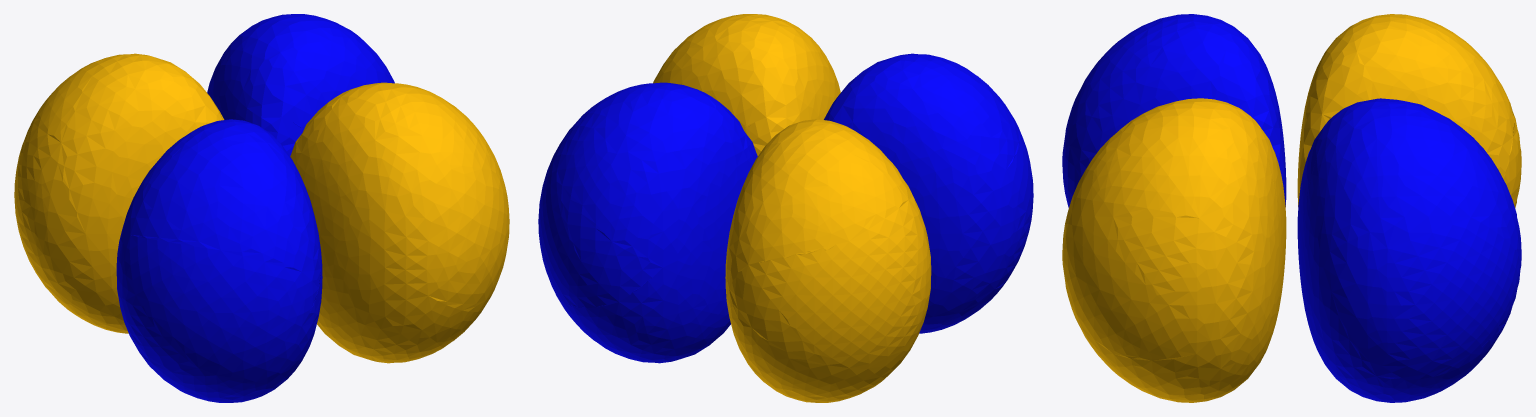
3 views of the same model, side by side, from view 1: azimuth 30°, elevation 25°; view 2: azimuth 150°, elevation 25°; view 3: azimuth 270°, elevation 25° (orthographic). The views are drawn at different scales.
Bounding box in the file's own units: 16.06 × 11.09 × 16.06.
